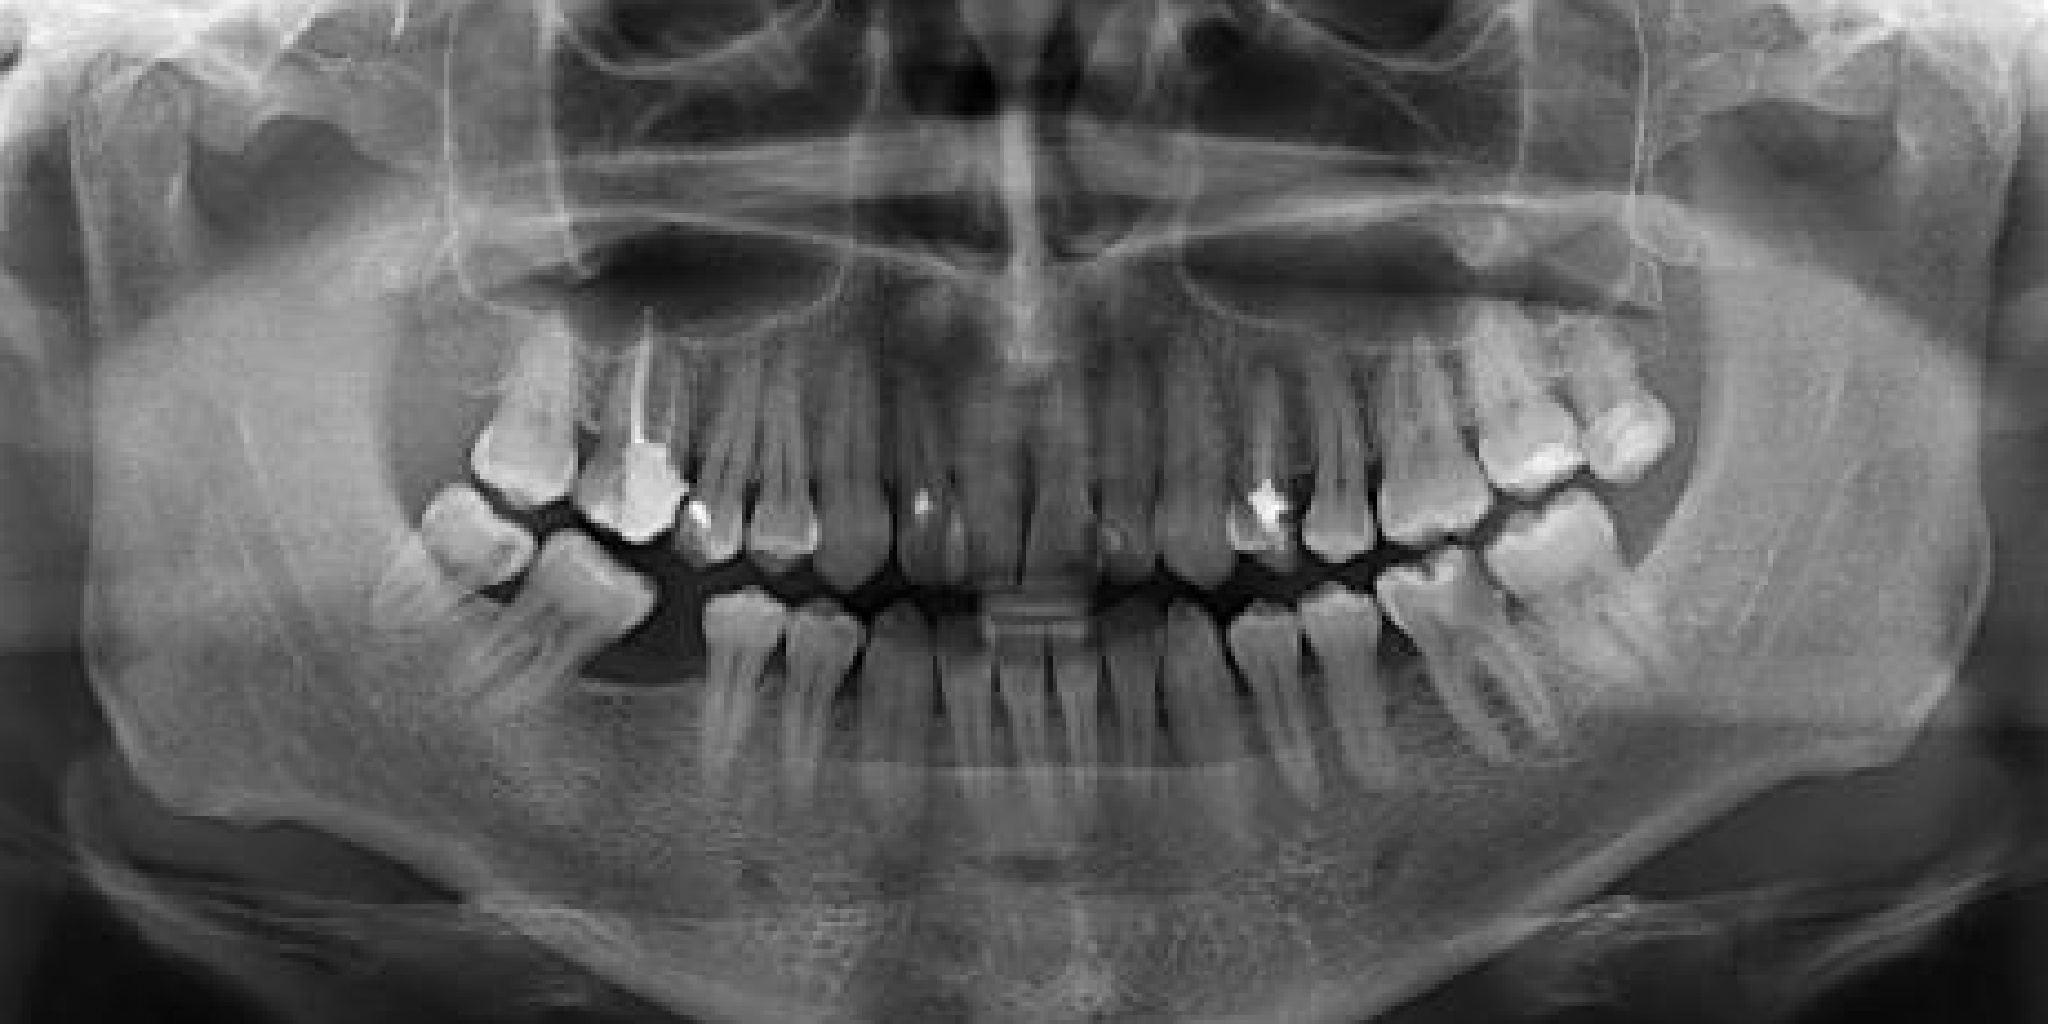Tooth: (1452, 458, 1704, 735), (428, 508, 669, 769), (1360, 522, 1567, 793), (350, 468, 554, 701), (1128, 585, 1283, 848), (1438, 282, 1597, 512), (455, 295, 611, 524), (1128, 323, 1249, 596), (569, 300, 701, 543), (1540, 294, 1691, 495), (1289, 566, 1418, 801), (1215, 588, 1344, 822), (1066, 336, 1181, 596), (667, 573, 795, 806), (1368, 329, 1499, 552), (748, 592, 875, 824), (793, 338, 905, 596), (664, 337, 782, 579), (859, 357, 976, 597), (1017, 344, 1125, 598), (940, 344, 1042, 594), (1212, 344, 1317, 579), (739, 334, 831, 577), (1283, 353, 1381, 566), (987, 596, 1078, 822), (1095, 589, 1187, 808), (927, 603, 1017, 810), (1044, 601, 1125, 812)
